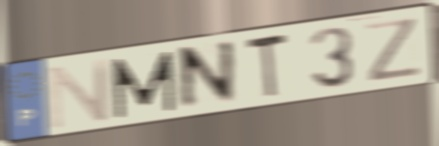3: (307, 25, 357, 91)
M: (109, 48, 178, 122)
N: (46, 56, 113, 133), (177, 36, 238, 115)
T: (244, 29, 291, 103)
Z: (363, 15, 426, 85)
